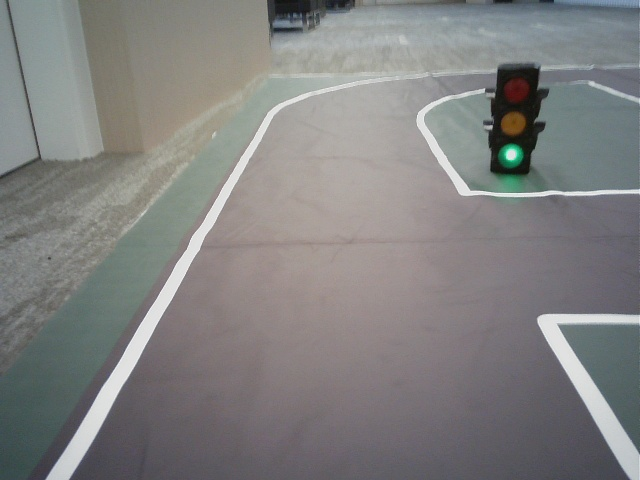green: (496, 70, 531, 167)
